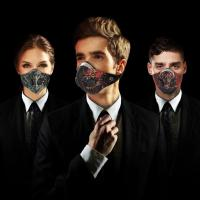OK: (73, 49, 116, 92), (18, 58, 53, 93), (153, 59, 185, 93)
